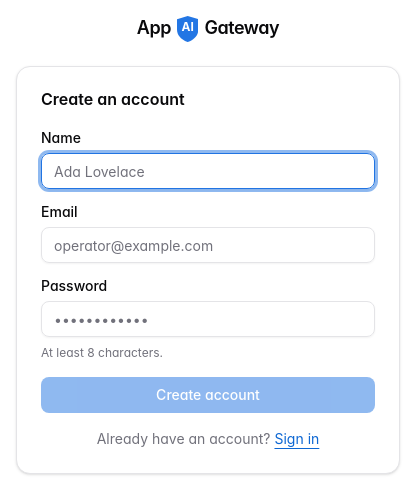
Test: SignupPage › falls back to the closed screen if the server refuses mid-flight
Type "Ada" into the field labelled "Name" at (208, 171), box x1=41 y1=153 x2=375 y2=189
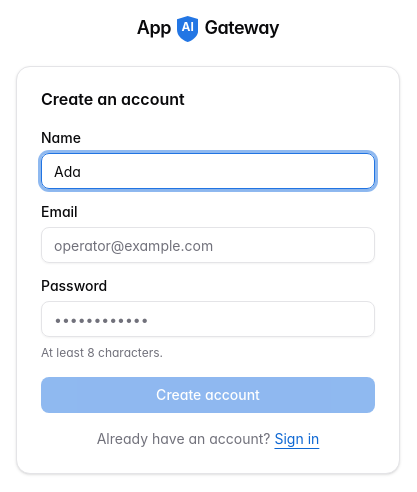
Type "ada@example.test" into the field labelled "Email" at (208, 245), box x1=41 y1=227 x2=375 y2=263
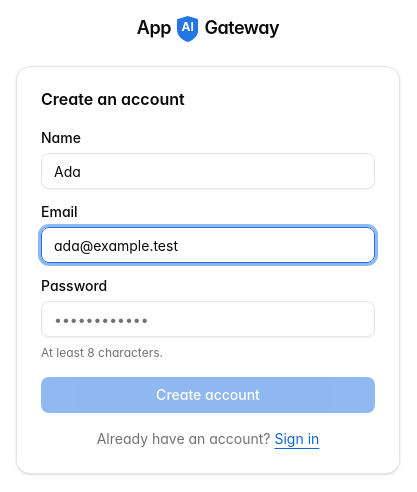
Type "correct-horse-42" into the password field labelled "Password" at (208, 319), box x1=41 y1=301 x2=375 y2=337
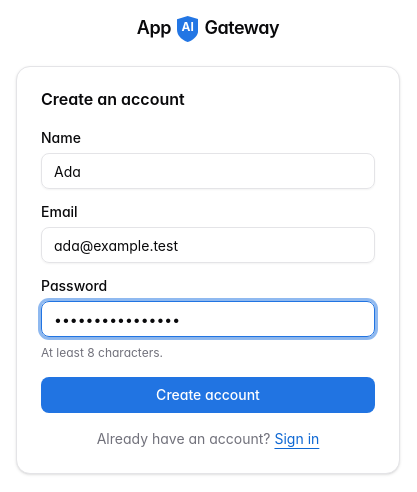
Click the button "Create account" at (208, 395), box x1=41 y1=377 x2=375 y2=413
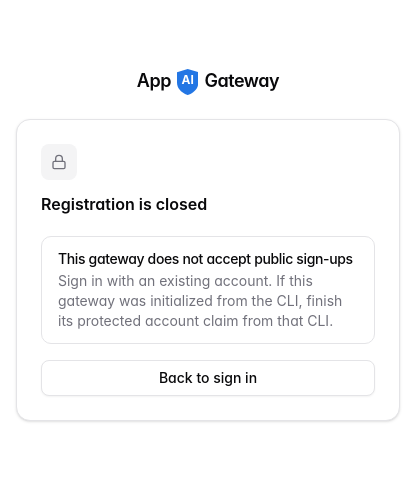
expect the text "Registration is closed" is shown: met, box x1=41 y1=194 x2=207 y2=214
